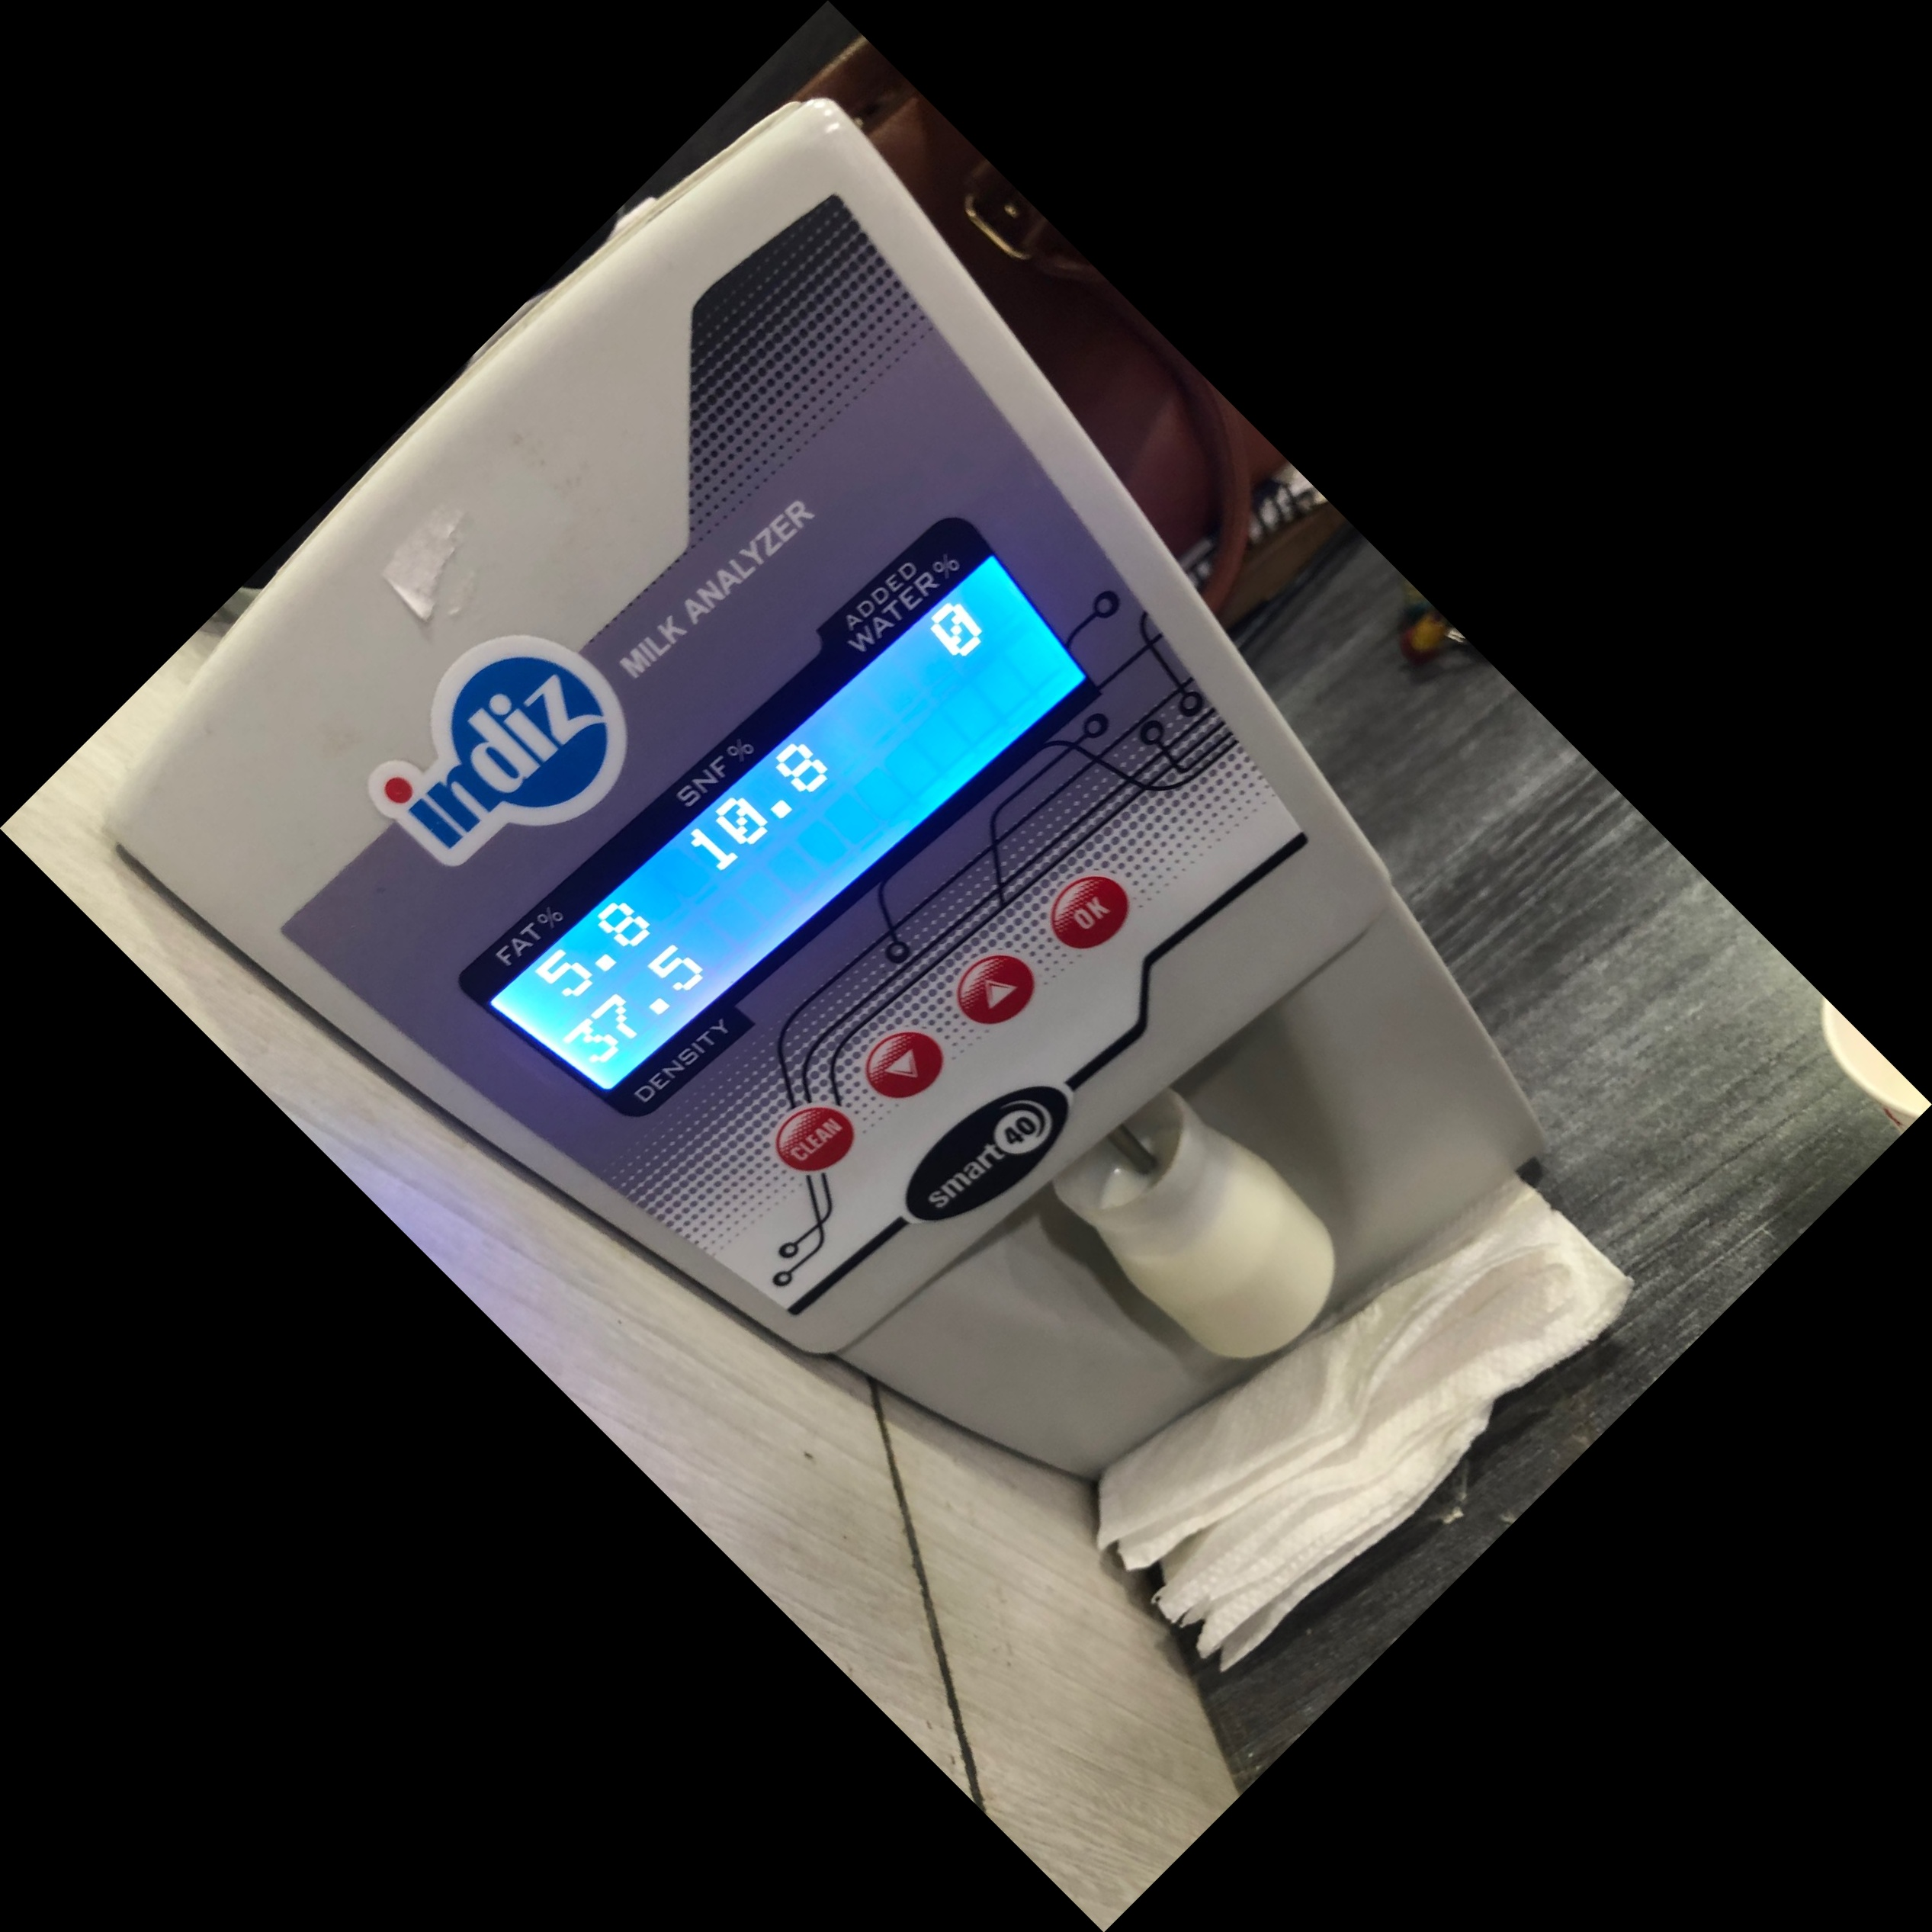lcd: (448, 504, 1093, 1129)
